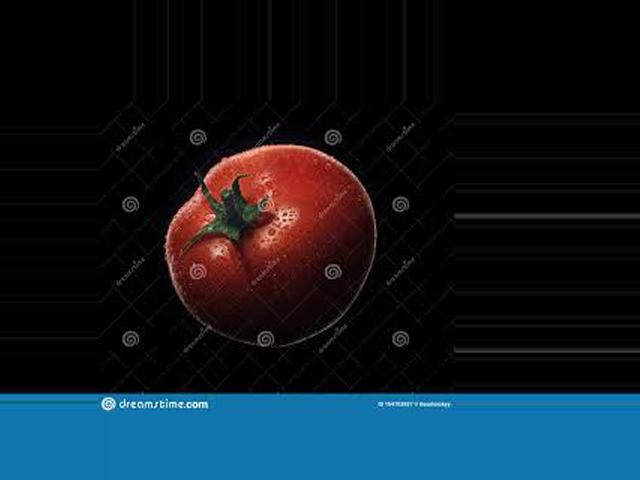tomato: (164, 144, 378, 345)
